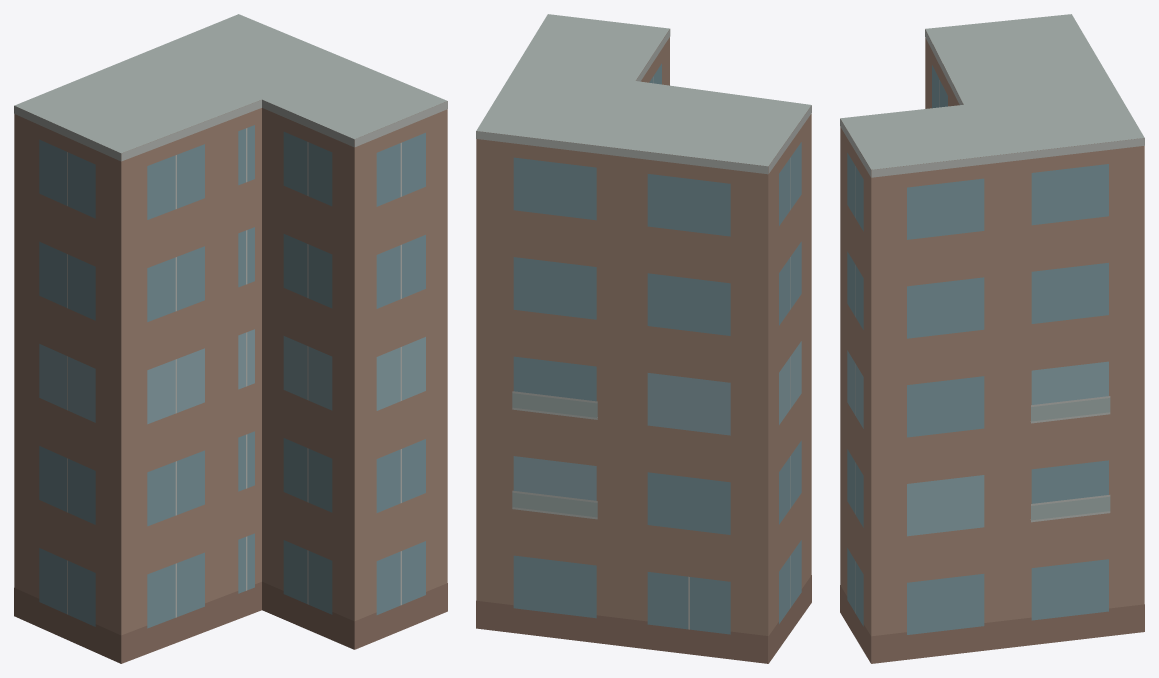
File: survey-upis-32633624.glb
The picture shows the model from 3 angles, left to right: view 1: azimuth 30°, elevation 25°; view 2: azimuth 150°, elevation 25°; view 3: azimuth 270°, elevation 25°; orthographic projection. The views are drawn at different scales.
Parts seen in each view (by area): view 1: survey-upis-32633624.tmp; view 2: survey-upis-32633624.tmp; view 3: survey-upis-32633624.tmp.
Boxes of the visible parts, left/top/right/bottom form: survey-upis-32633624.tmp: left=14, top=14, right=447, bottom=663; survey-upis-32633624.tmp: left=476, top=14, right=811, bottom=663; survey-upis-32633624.tmp: left=840, top=14, right=1144, bottom=663.
Size of the model in its own units: 10.33 by 15.25 by 8.53.
